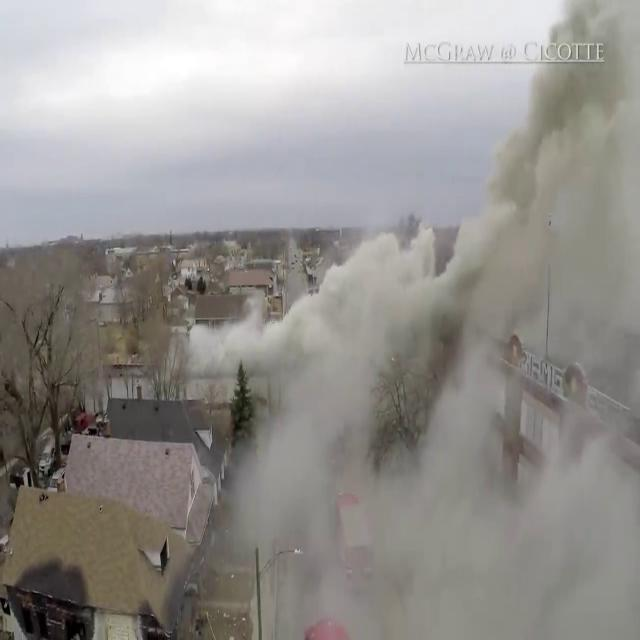Smoke: (210, 73, 640, 640)
